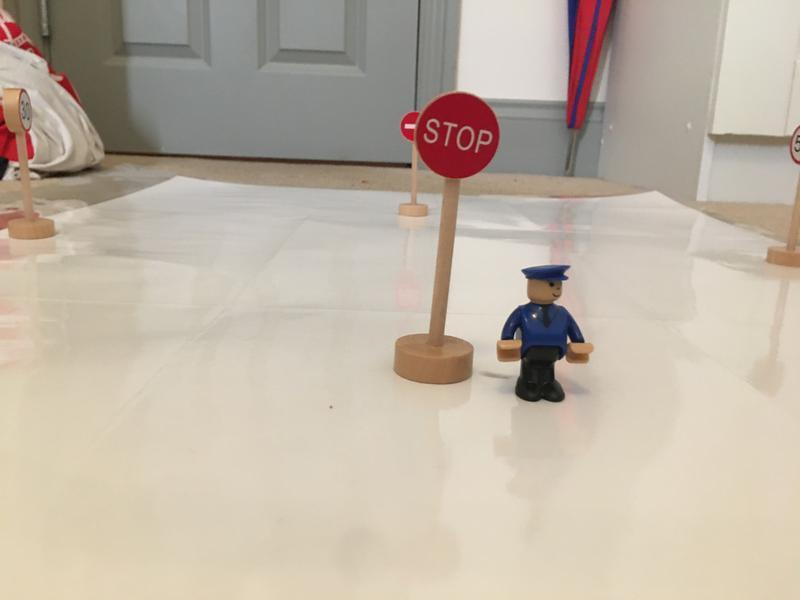Traffic_Sign_No_Entry: (401, 111, 416, 139)
Traffic_Sign_Stop: (416, 92, 499, 179)
person: (496, 262, 595, 408)
